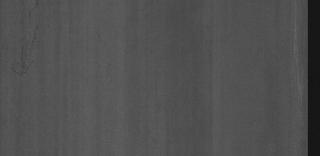water spot: (9, 25, 41, 77)
